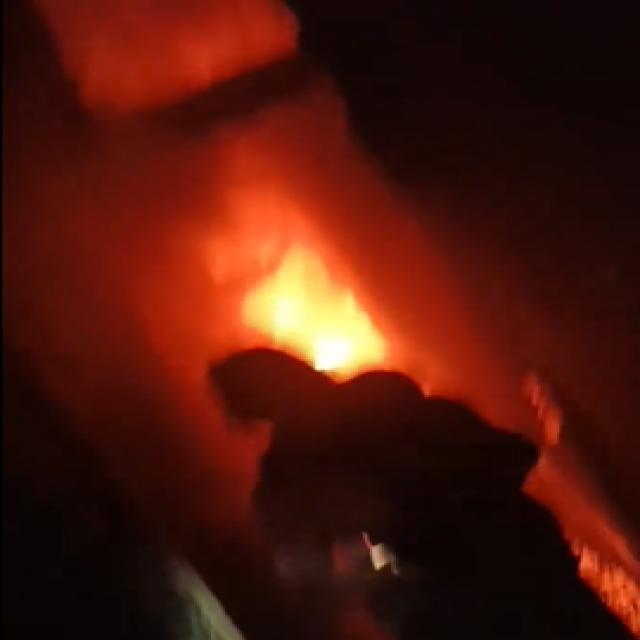Fire: (255, 252, 397, 372)
Smoke: (39, 58, 407, 329)
